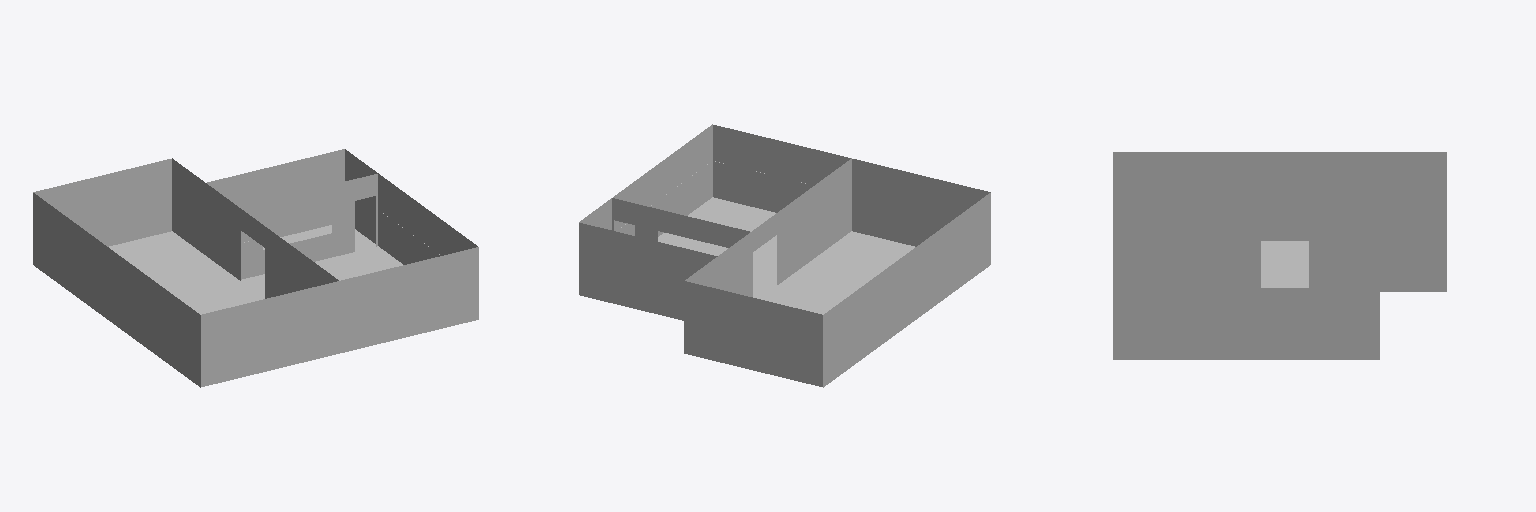
File: CT Sim Room_cut.obj
3 views of the same model, side by side, from view 1: azimuth 30°, elevation 25°; view 2: azimuth 150°, elevation 25°; view 3: azimuth 270°, elevation 25° (orthographic).
Visible parts, largest first — view 1: Room2_cut, Room1_cut, Room3_cut, WLWA_020; view 2: Room2_cut, Room1_cut, Room3_cut, WLWA_020; view 3: Room2_cut, WLWA_020, Room1_cut, Room3_cut.
Boxes of the visible parts, box(x1,y1,x2,y2) form: Room2_cut: box(33, 158, 339, 387); Room1_cut: box(239, 173, 478, 351); Room3_cut: box(206, 149, 377, 273); WLWA_020: box(239, 210, 478, 352); Room2_cut: box(684, 159, 990, 387); Room1_cut: box(612, 124, 851, 298); Room3_cut: box(579, 198, 750, 320); WLWA_020: box(616, 161, 851, 284); Room2_cut: box(1113, 152, 1446, 291); WLWA_020: box(1113, 256, 1312, 359); Room1_cut: box(1113, 220, 1312, 359); Room3_cut: box(1313, 220, 1379, 359).
Size of the model in its own units: 120 by 30 by 125.